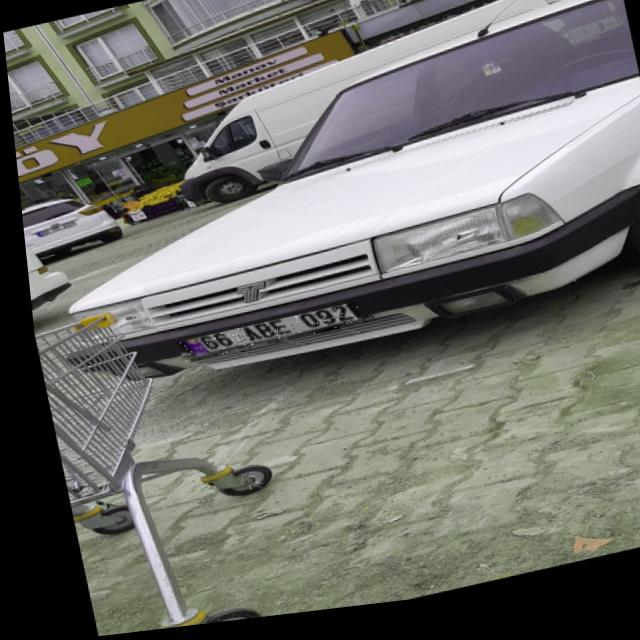license_plate: (169, 309, 355, 367)
